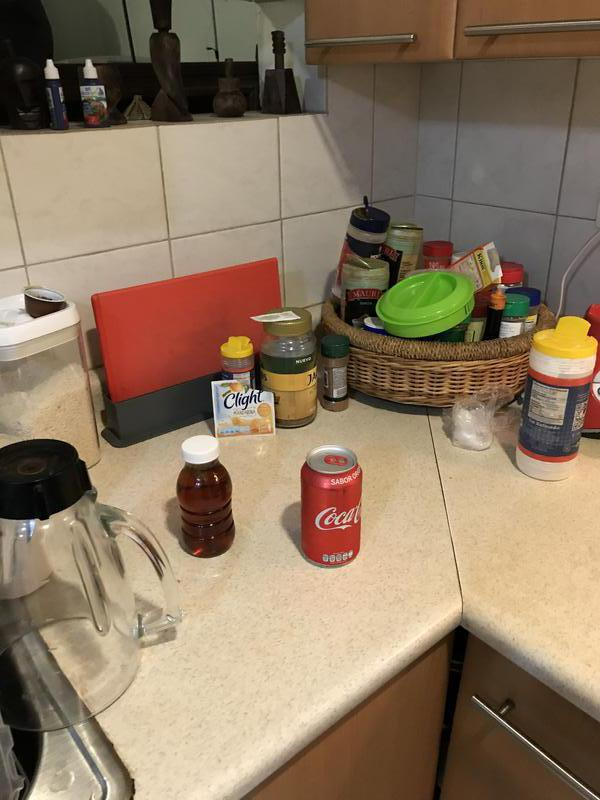coca_cola: (301, 447, 362, 568)
